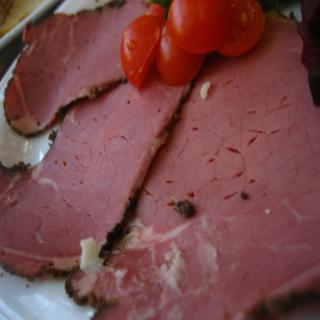tomato: (164, 0, 233, 54), (156, 16, 204, 86), (216, 0, 264, 55), (117, 19, 151, 80), (144, 2, 165, 26)
